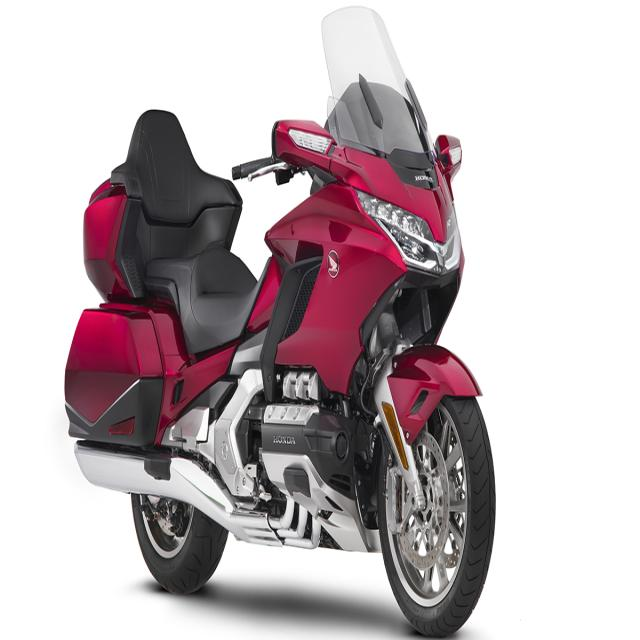Bike: (64, 6, 498, 640)
